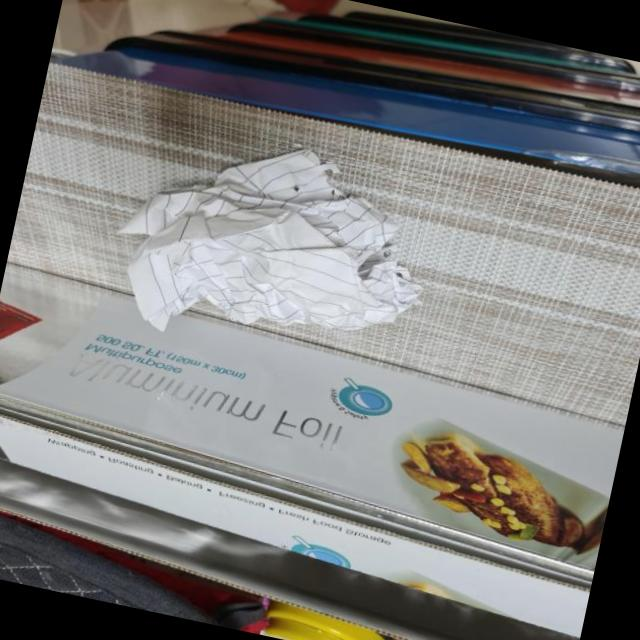cardboard paper: (113, 146, 421, 334)
